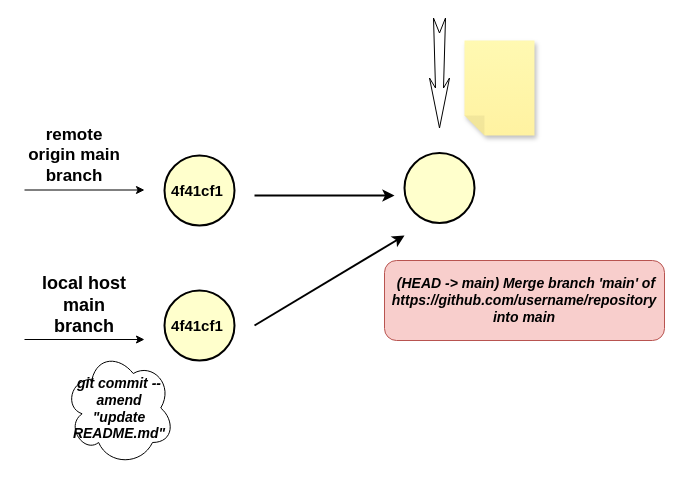
Image size: 682x483. Some labels were removed from this diagram. The centre of each missing label's shape, as x and y in pixels:
9f9a301: the point at 439,188
Head Pointer: the point at 500,89
